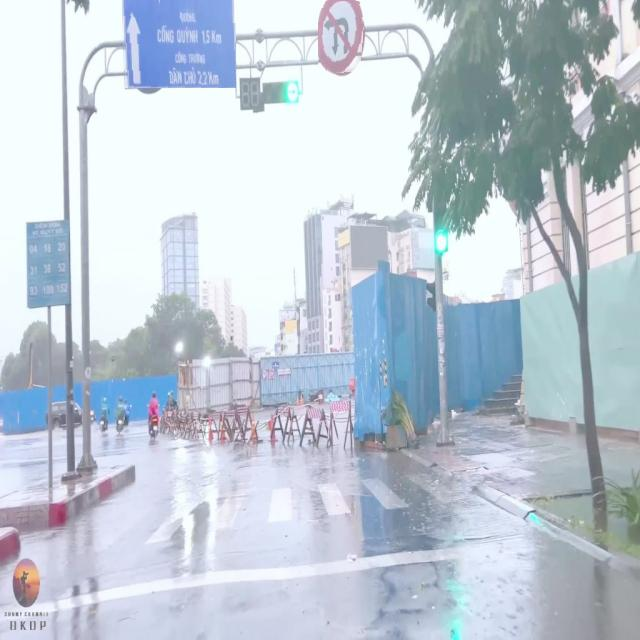cam_re_trai: (263, 371, 267, 378)
khac: (122, 2, 236, 88), (318, 1, 366, 76)
